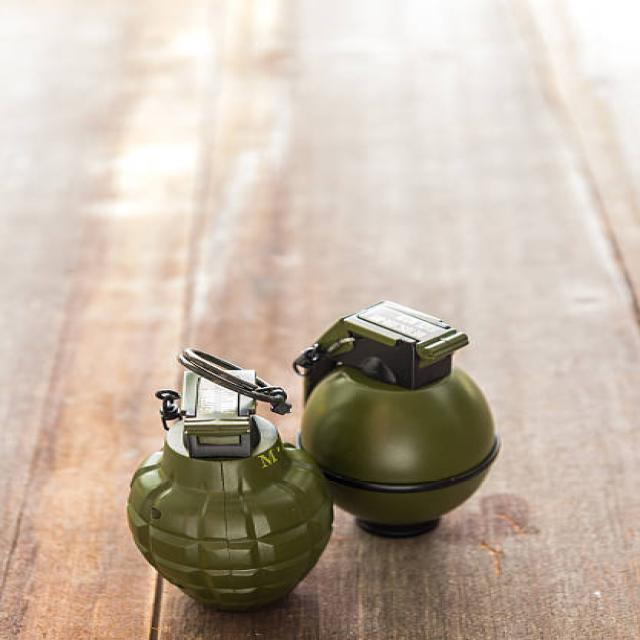grenade: (118, 344, 339, 618)
